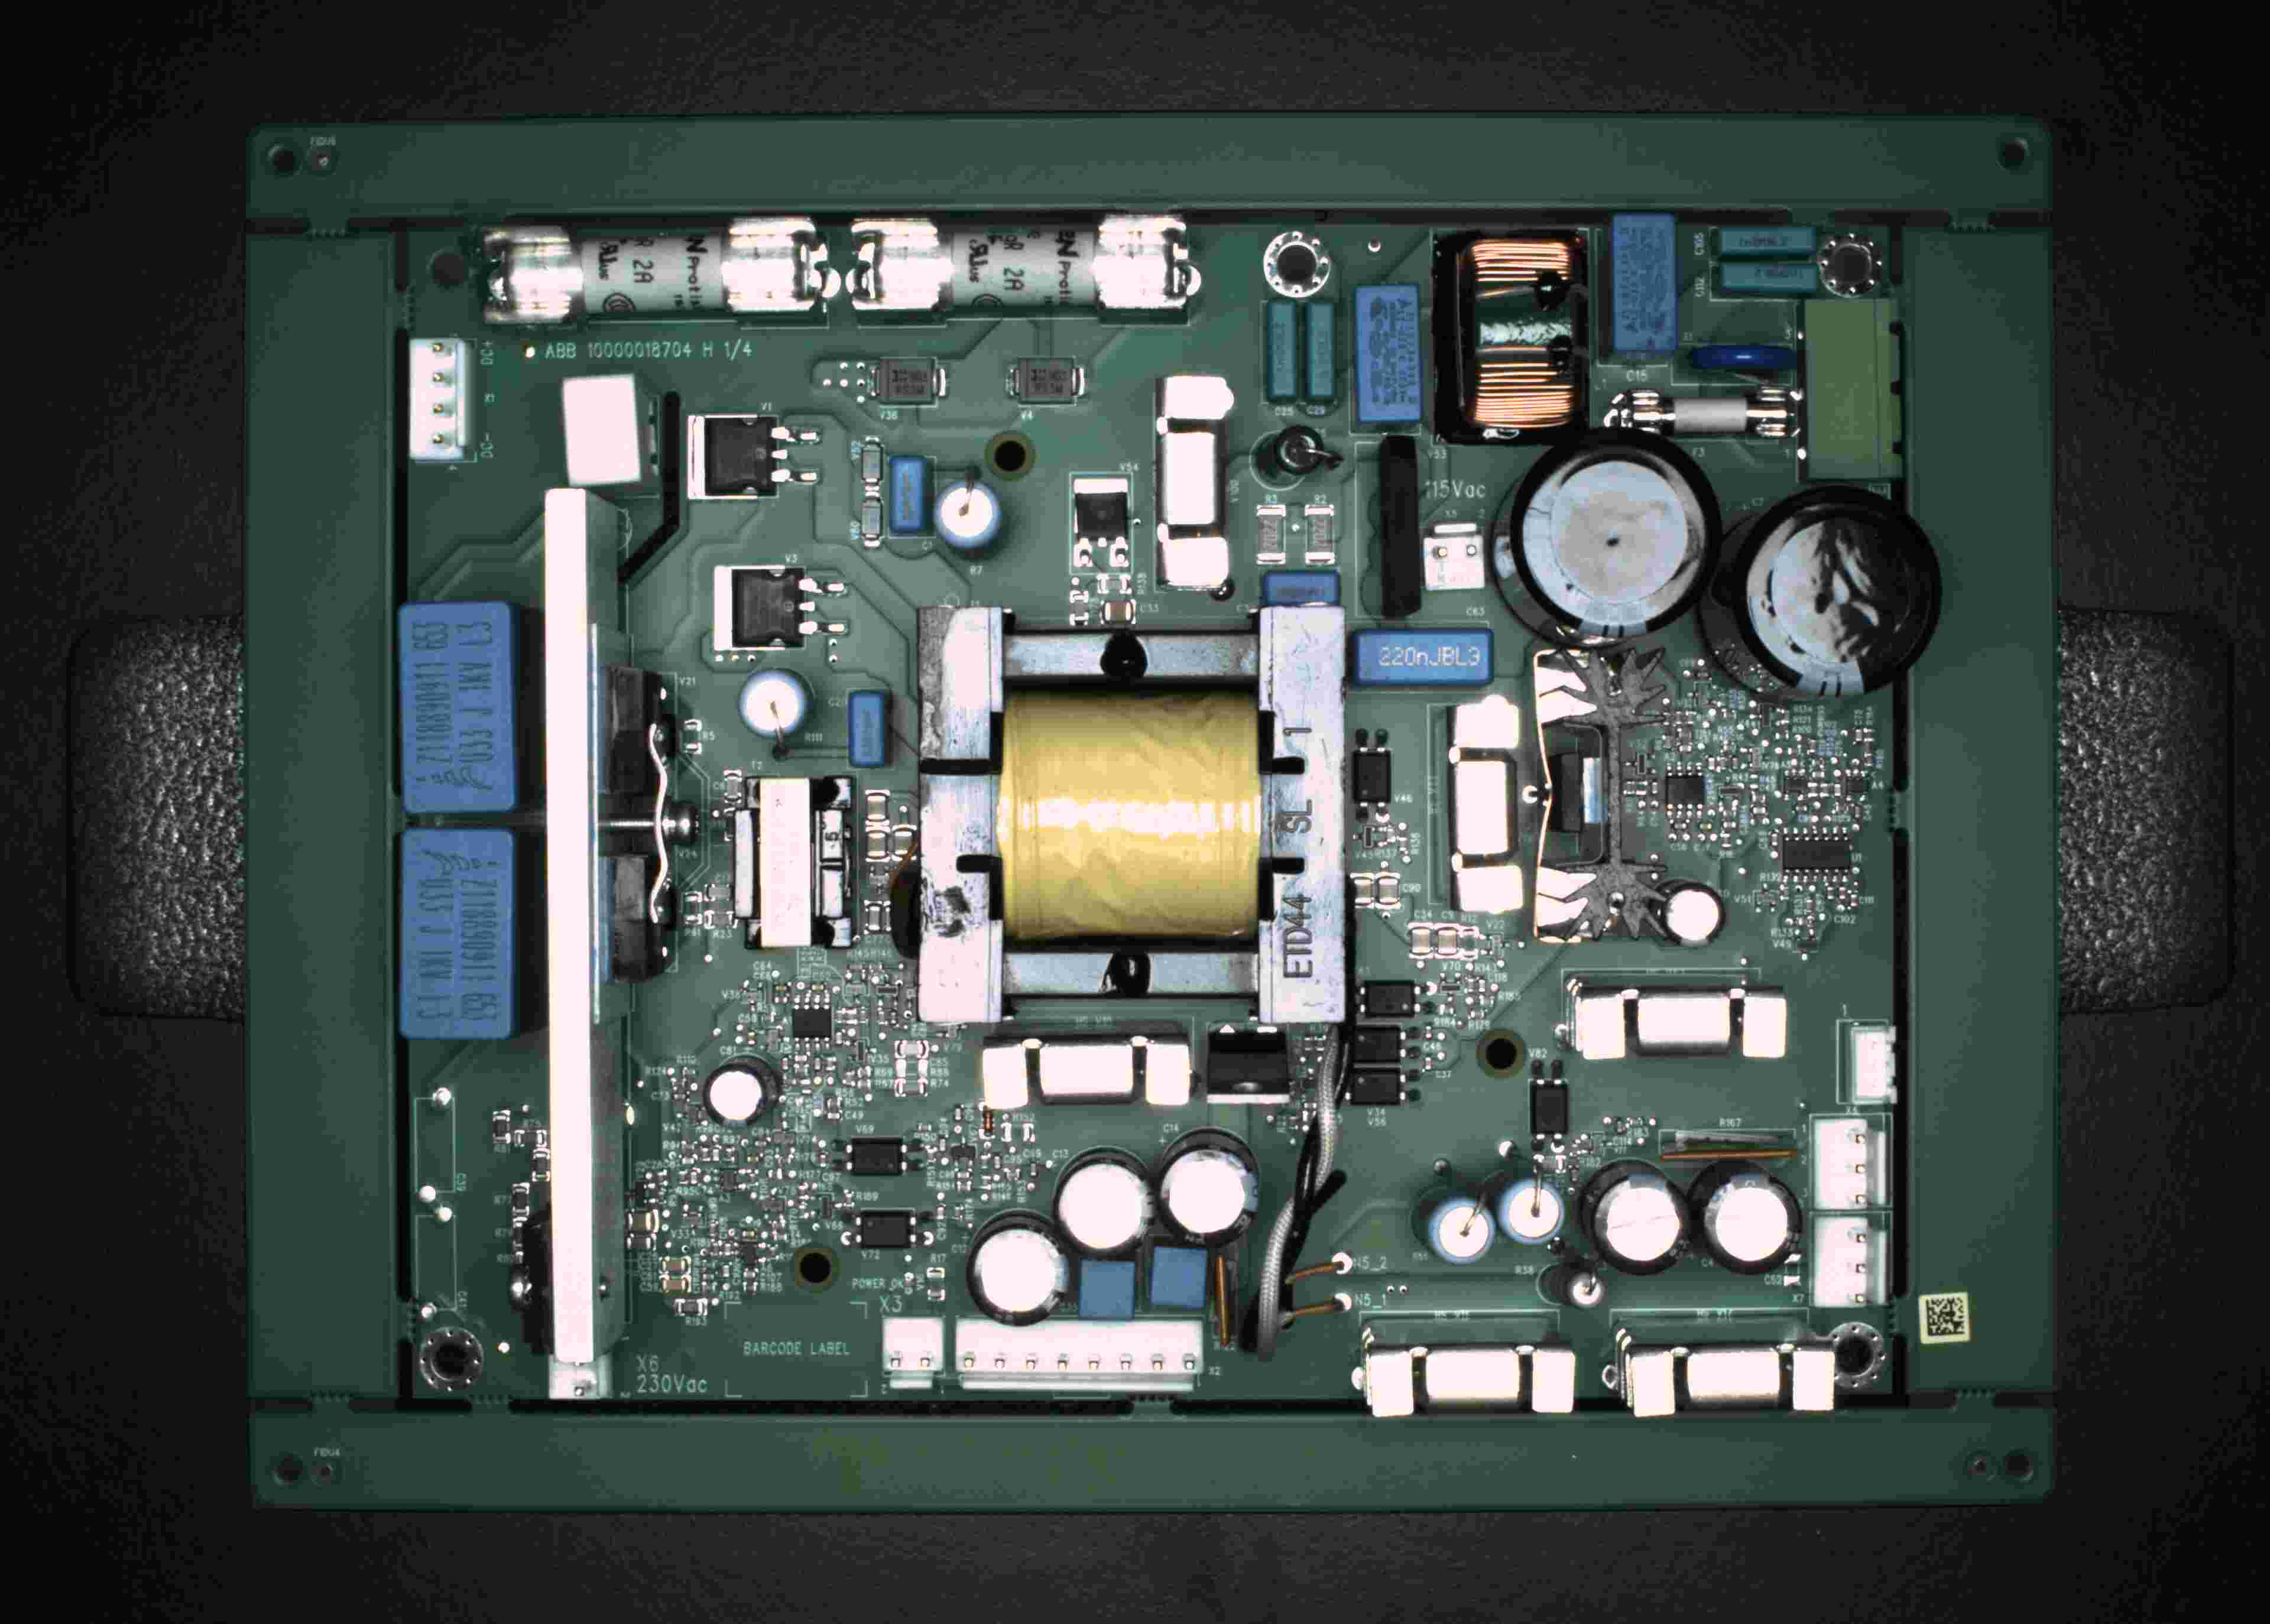10_p: (1692, 339, 1795, 371)
11_q: (1804, 297, 1881, 485)
12_r: (1605, 388, 1793, 439)
13_s: (410, 337, 469, 460)
14_t: (564, 376, 638, 485)
15_e: (893, 457, 923, 534)
16_k: (934, 478, 1000, 548)
17_u: (1157, 378, 1234, 594)
18_v: (1234, 569, 1317, 615)
19_w: (1356, 627, 1488, 684)
1_a: (487, 220, 837, 322)
20_f: (1426, 522, 1482, 591)
21_g: (1509, 438, 1720, 642)
22_g: (1737, 482, 1939, 698)
23_h: (404, 605, 513, 805)
24_h: (397, 828, 515, 1033)
25_f: (552, 1360, 612, 1401)
26_f: (883, 1318, 942, 1388)
27_x: (957, 1322, 1201, 1392)
28_i: (1157, 1137, 1259, 1243)
29_i: (1050, 1149, 1152, 1257)
2_a: (846, 216, 1199, 311)
30_i: (965, 1214, 1066, 1323)
31_j: (1081, 1258, 1138, 1316)
32_j: (1148, 1246, 1208, 1311)
33_e: (849, 691, 884, 765)
34_k: (1426, 1195, 1496, 1265)
35_k: (1498, 1179, 1565, 1244)
36_i: (1593, 1171, 1692, 1274)
37_i: (1700, 1174, 1804, 1274)
38_l: (1350, 1343, 1575, 1415)
39_l: (1619, 1346, 1834, 1417)
3_b: (1266, 297, 1294, 397)
40_l: (1574, 984, 1786, 1060)
41_y: (1451, 696, 1521, 914)
42_z: (1848, 1023, 1897, 1104)
43_m: (1811, 1120, 1888, 1209)
44_m: (1813, 1216, 1888, 1308)
45_i: (705, 1065, 765, 1128)
46_n: (1364, 979, 1415, 1012)
47_n: (849, 1139, 900, 1174)
48_n: (858, 1211, 911, 1246)
49_aa: (793, 1009, 833, 1037)
4_b: (1306, 302, 1335, 397)
50_n: (1352, 1026, 1400, 1062)
51_n: (1352, 1067, 1403, 1102)
52_ab: (1354, 750, 1389, 801)
53_ac: (1656, 1130, 1790, 1165)
54_ad: (1211, 1253, 1234, 1359)
55_l: (983, 1039, 1189, 1114)
56_ae: (1208, 1025, 1284, 1098)
57_af: (1533, 638, 1660, 942)
58_i: (1662, 884, 1725, 947)
59_o: (1018, 357, 1074, 401)
5_c: (1329, 286, 1400, 448)
60_o: (881, 357, 935, 402)
6_ag: (1405, 232, 1572, 452)
7_c: (1612, 216, 1669, 346)
8_d: (1723, 228, 1808, 253)
9_d: (1723, 264, 1818, 290)
